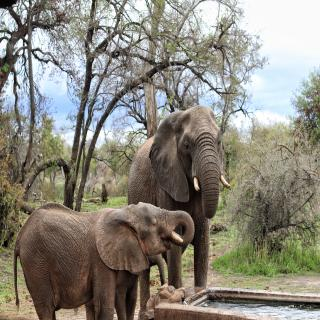Elephant: (11, 199, 195, 320), (127, 105, 234, 302)
